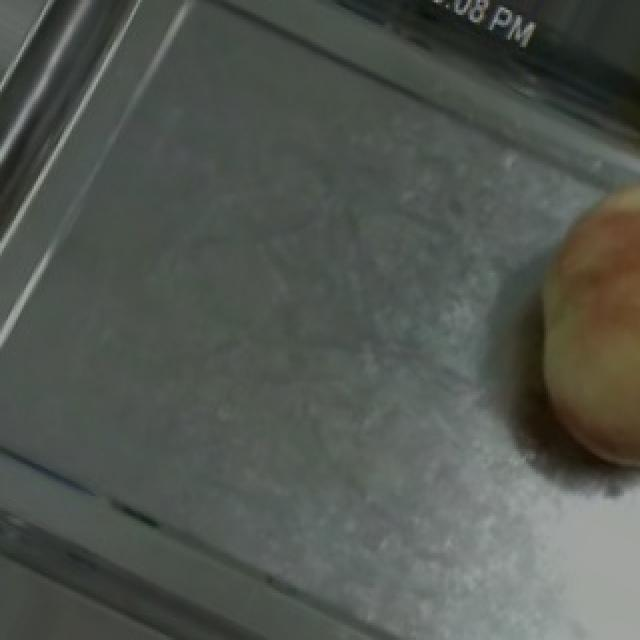Fruit: (490, 141, 640, 501)
